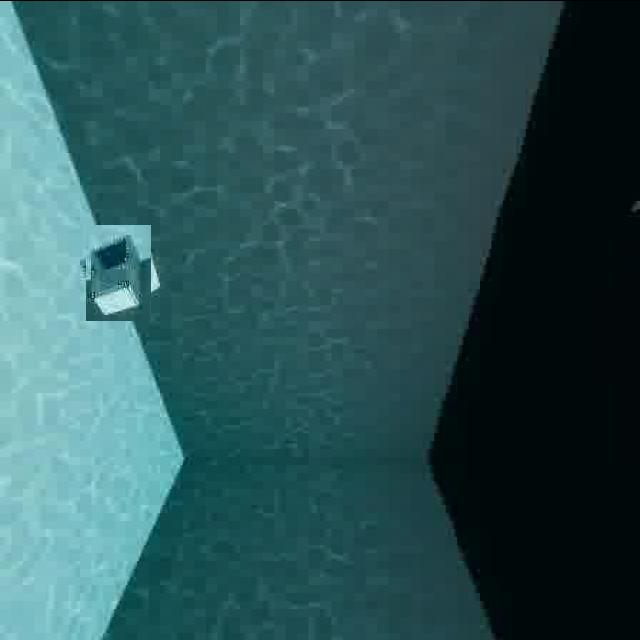Docking Station: (78, 232, 159, 312)
